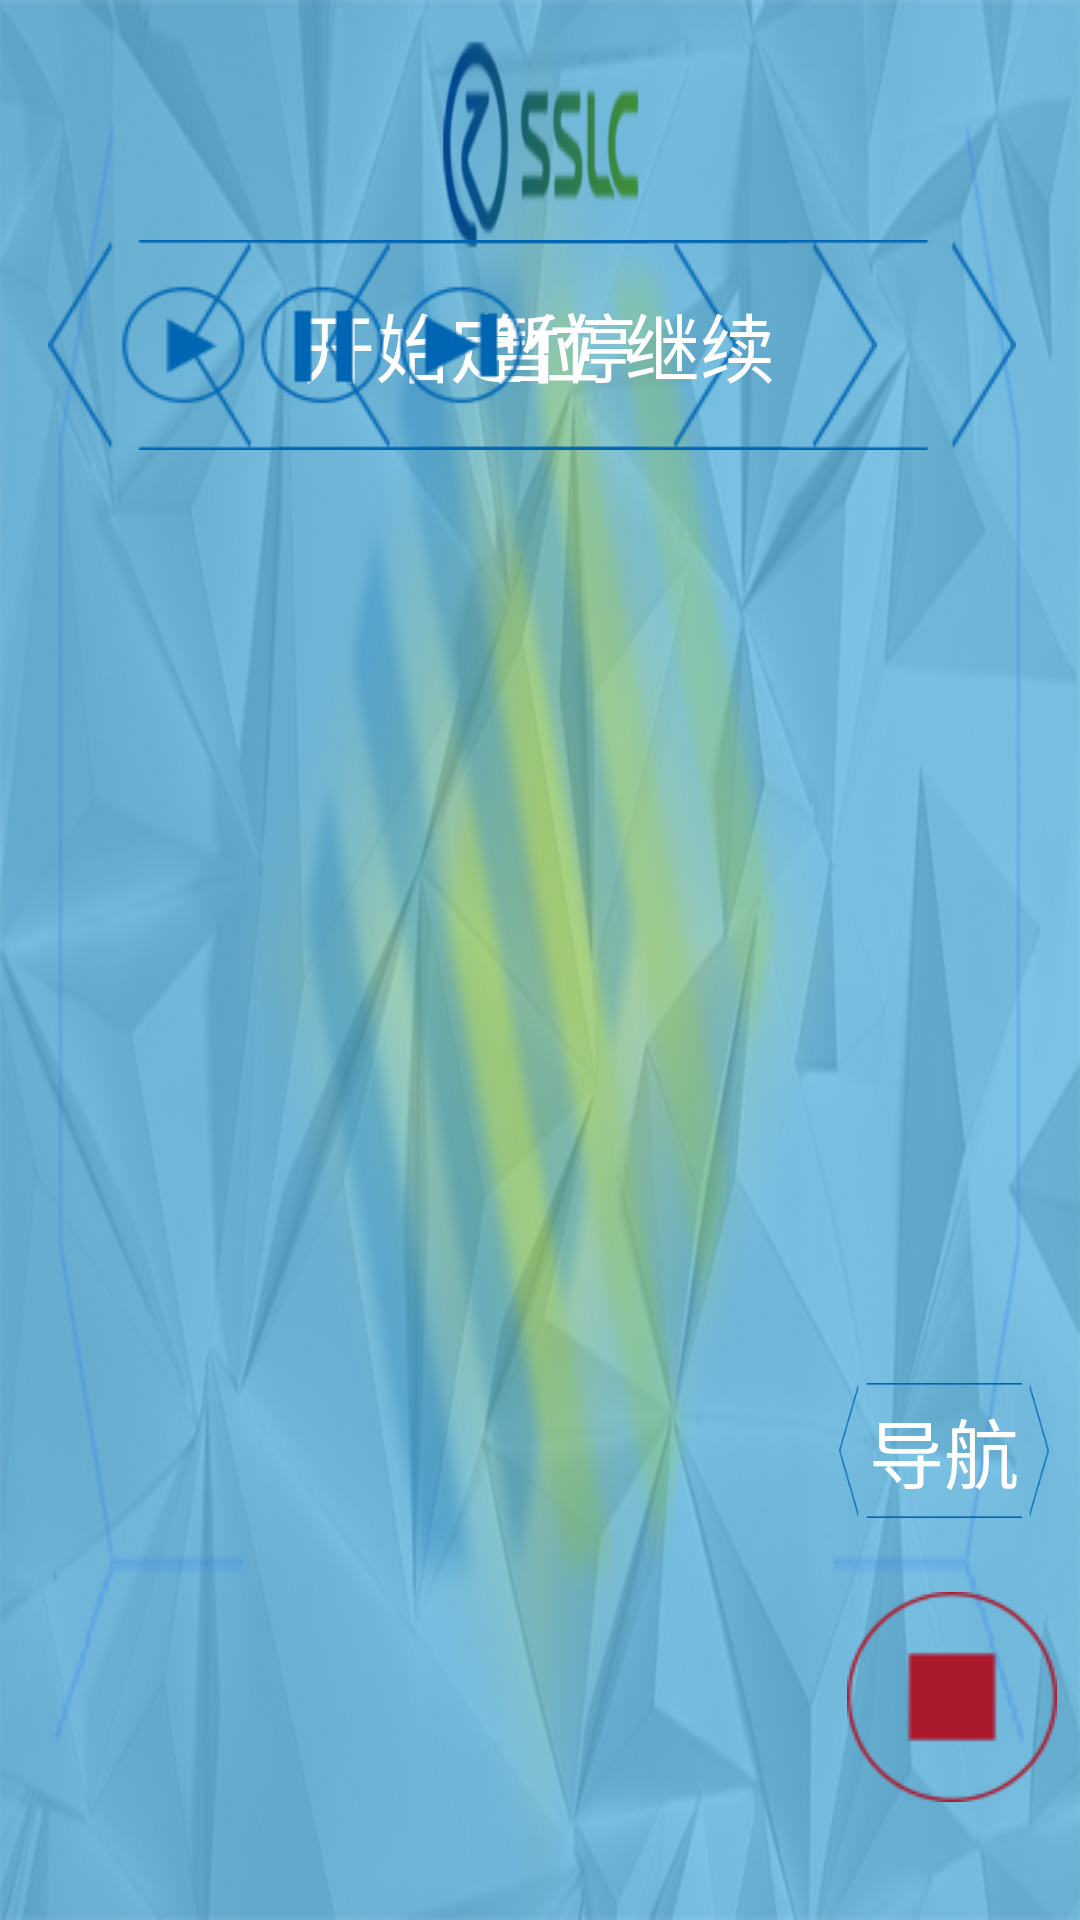

Icon bounding boxes for this 1080 × 1920 phone screenshot, format (x1, y1, x2, y2):
stop: (847, 1592, 1057, 1802)
